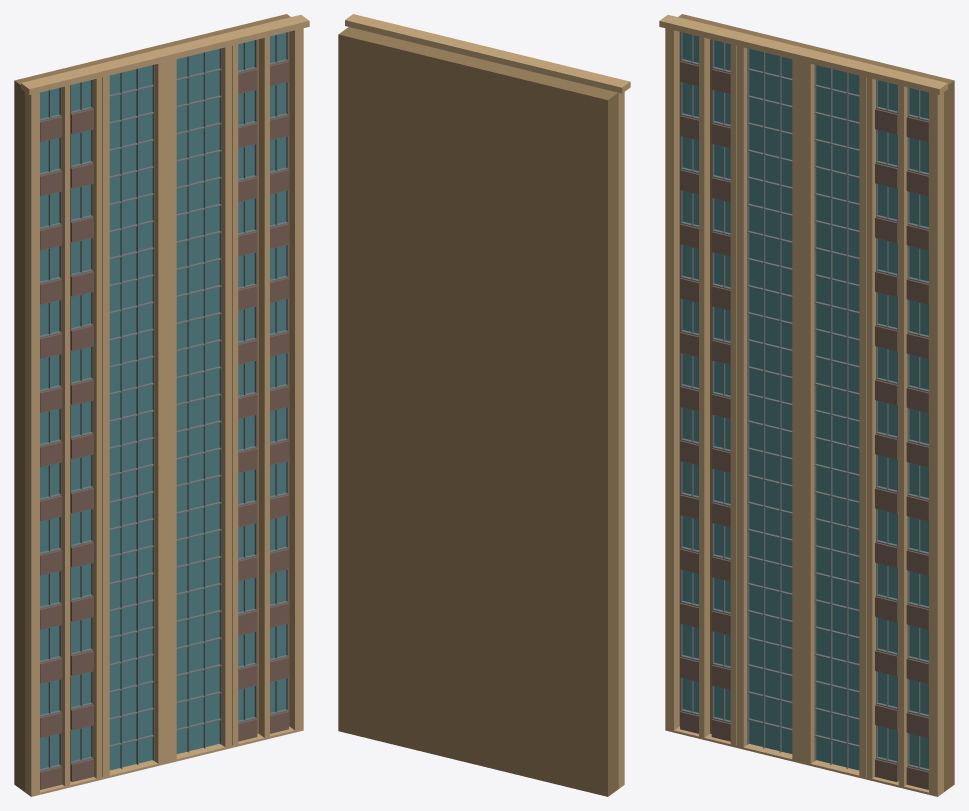
Rendered from light.glb.
3 views of the same model, side by side, from view 1: azimuth 30°, elevation 25°; view 2: azimuth 150°, elevation 25°; view 3: azimuth 330°, elevation 25° (orthographic).
Parts seen in each view (by area): view 1: F_window_-1_0_0, F_stone_pier_-1_0, F_jamb_-1_0_0_-1.125, F_spandrel_-1_0_0, HOLD_closed_support_mass; view 2: HOLD_closed_support_mass, F_stone_pier_-1_0; view 3: F_window_-1_0_0, F_stone_pier_-1_0, F_jamb_-1_0_0_-1.125, F_spandrel_-1_0_0, HOLD_closed_support_mass.
Part boxes in pixels (left/top/right/bottom): F_window_-1_0_0: left=40, top=32, right=286, bottom=770; F_stone_pier_-1_0: left=21, top=15, right=309, bottom=796; F_jamb_-1_0_0_-1.125: left=40, top=32, right=288, bottom=771; F_spandrel_-1_0_0: left=40, top=61, right=288, bottom=789; HOLD_closed_support_mass: left=14, top=14, right=290, bottom=791; HOLD_closed_support_mass: left=338, top=27, right=618, bottom=796; F_stone_pier_-1_0: left=345, top=14, right=630, bottom=788; F_window_-1_0_0: left=682, top=32, right=928, bottom=770; F_stone_pier_-1_0: left=659, top=15, right=947, bottom=796; F_jamb_-1_0_0_-1.125: left=680, top=32, right=928, bottom=771; F_spandrel_-1_0_0: left=680, top=61, right=928, bottom=789; HOLD_closed_support_mass: left=678, top=14, right=954, bottom=791.
Bounding box in the file's own units: 28.8 × 69.79 × 3.35.
